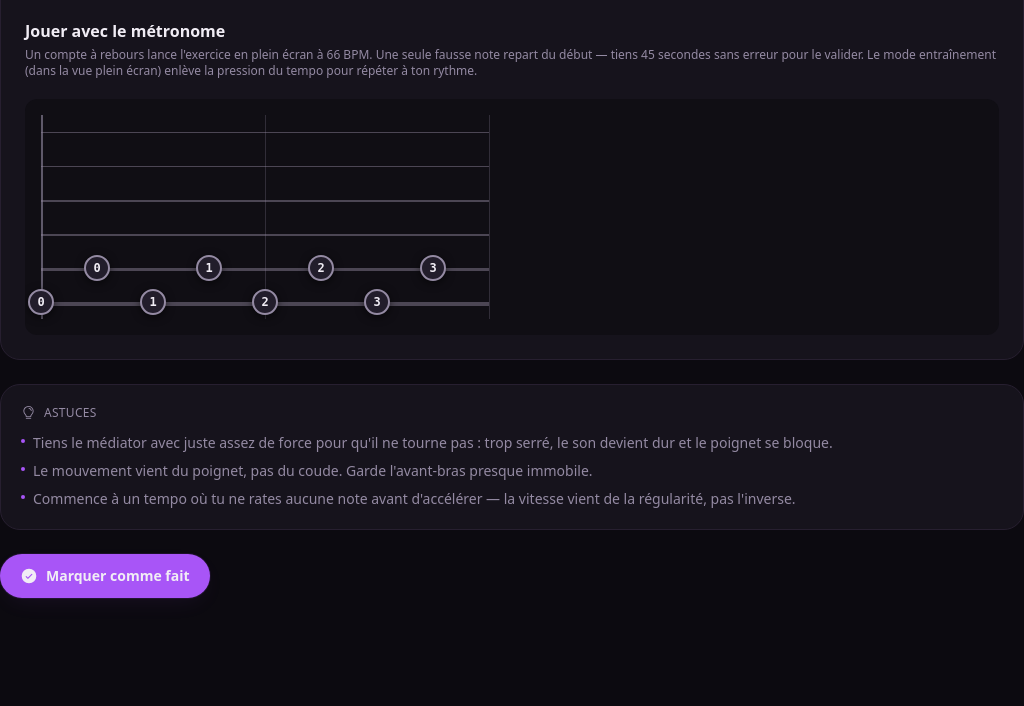
it: ExerciseDetailPage completion › completing once grants XP and disables further completion
(page scrolled)
Click the button "Marquer comme fait" at (105,576), box [0,554,210,598]
(page scrolled)
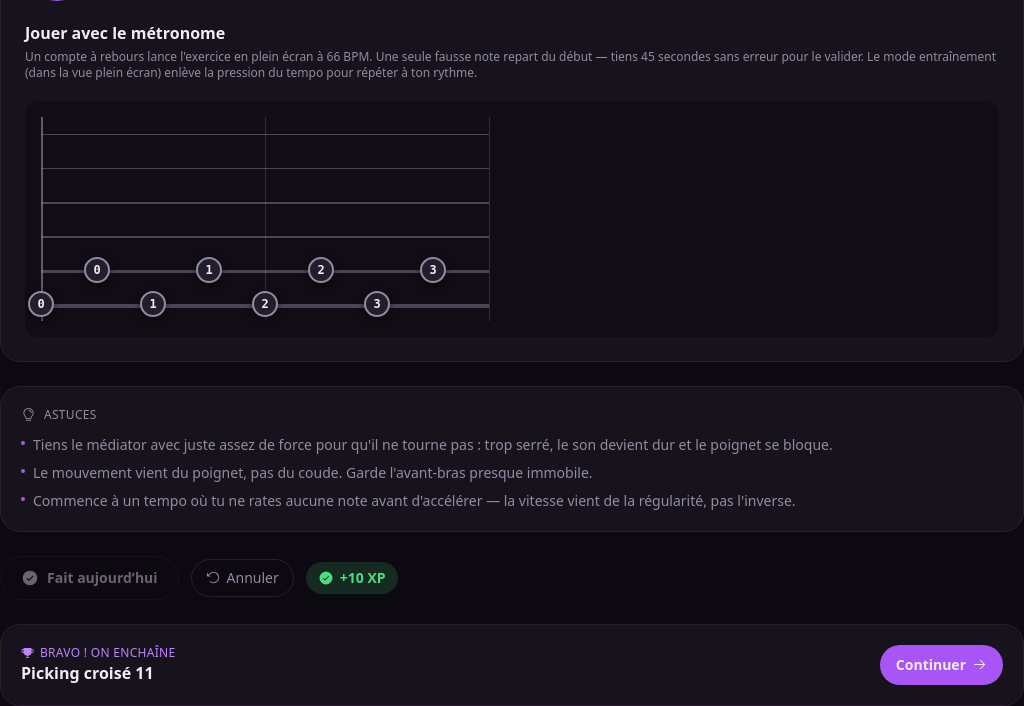
Check: the button "Fait aujourd’hui" is disabled, box [0,556,179,600]
